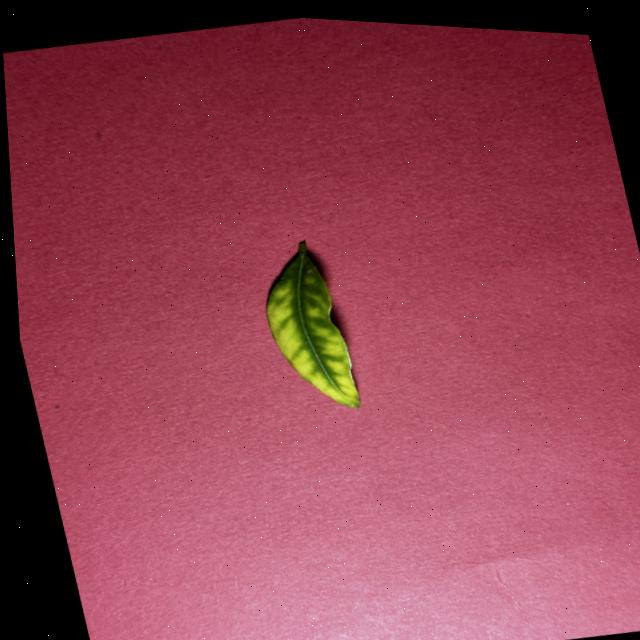greening: (265, 240, 359, 406)
